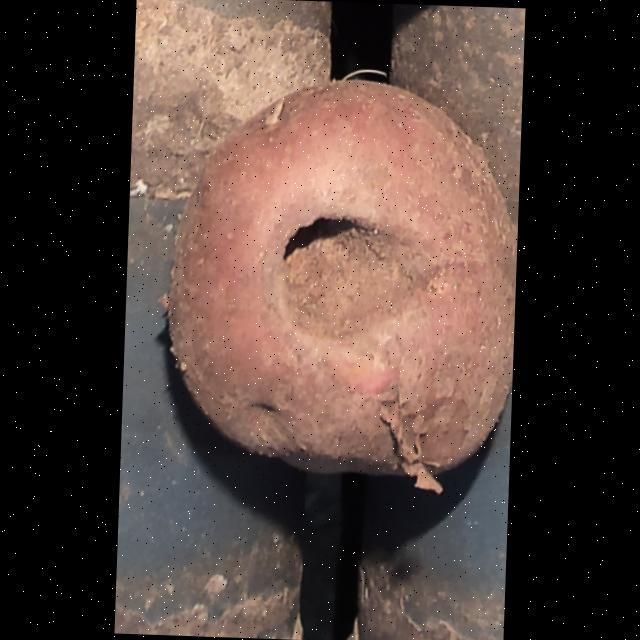Diseased-fungal potato: (152, 47, 524, 508)
